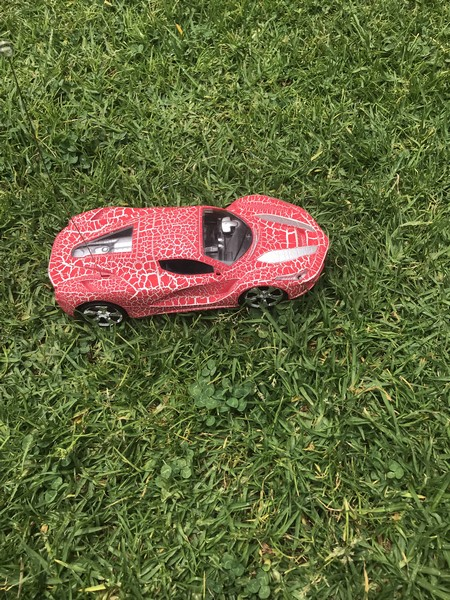RC: (46, 194, 331, 330)
